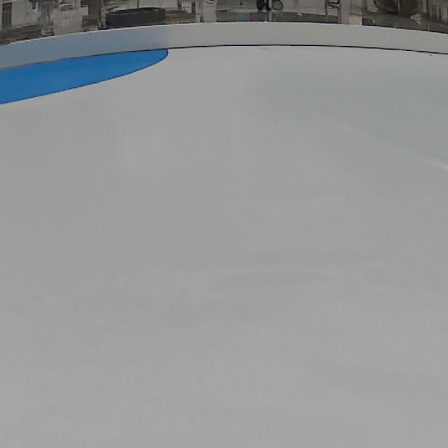blue_base: (0, 48, 171, 103)
